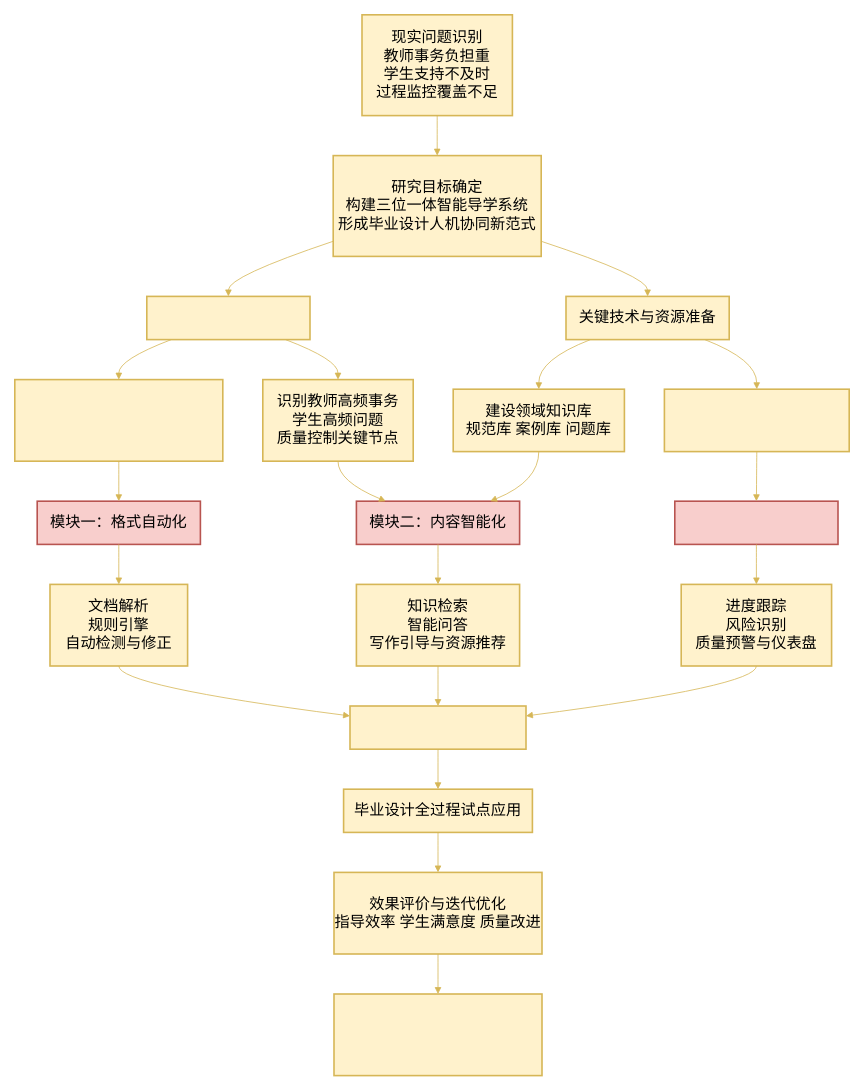
Image size: 863x1090. Some labels were removed from this diagram. Here are the shapes that lost their labels. From the top down, the box of each, then its label:
(146, 295, 310, 340): 需求分析与场景建模
(14, 378, 223, 462): 梳理毕业设计全流程场景 选题 开题 设计 实现 写作 答辩
(663, 388, 850, 452): 确定技术架构 RPA + RAG + 监控可视化
(674, 500, 838, 545): 模块三：过程可视化
(349, 705, 526, 750): 系统集成与场景化应用
(333, 993, 542, 1076): 形成成果输出 系统原型 改革方案 研究报告 论文案例
